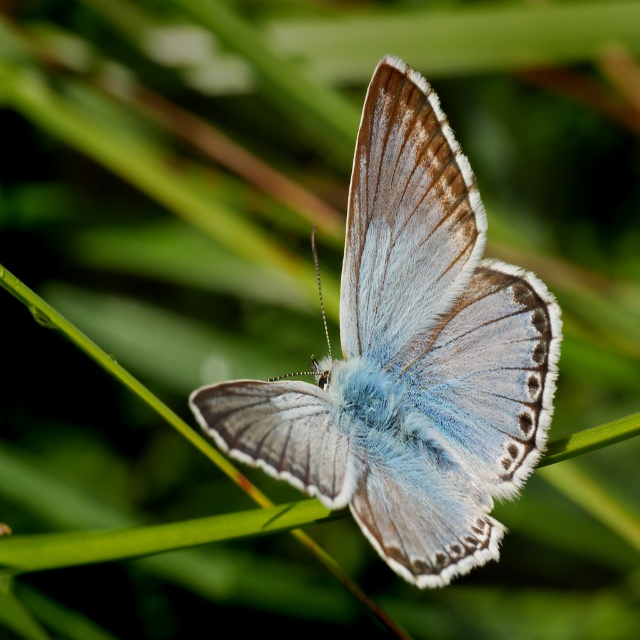Butterfly: (188, 55, 563, 589)
